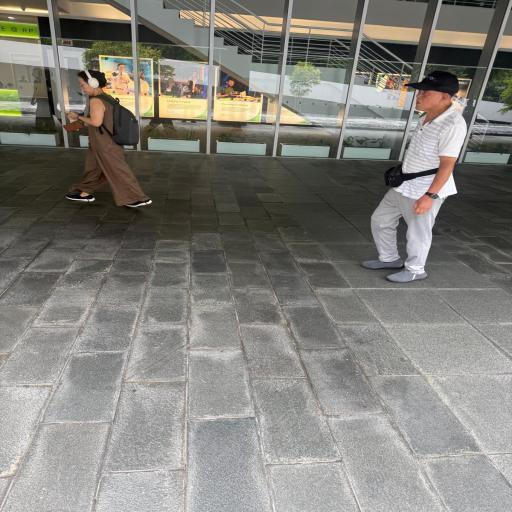person_left: (362, 70, 468, 283), (361, 70, 467, 283), (65, 69, 152, 208)
